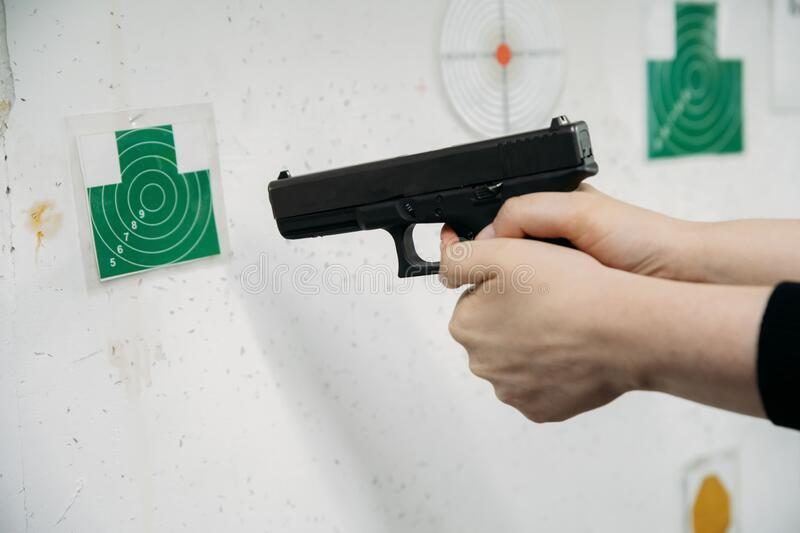weapon: (265, 112, 600, 281)
